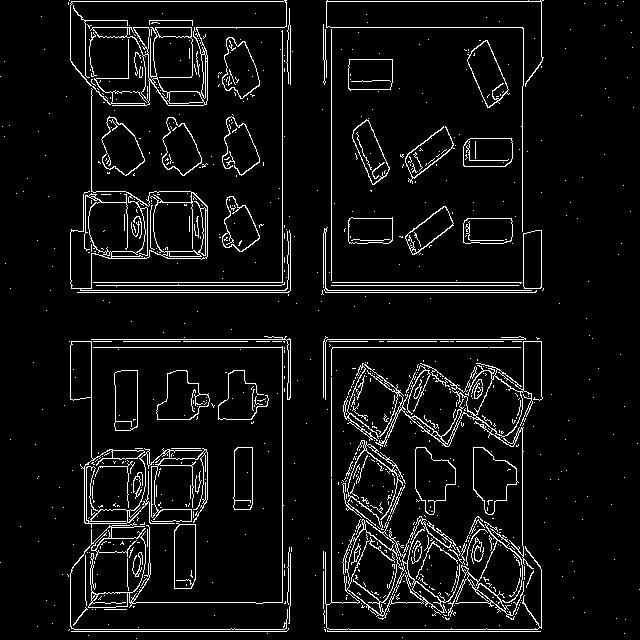Battery: (404, 126, 455, 184), (466, 40, 509, 108), (352, 119, 390, 185), (406, 208, 454, 255), (114, 370, 138, 431), (462, 139, 512, 168), (174, 524, 196, 589), (349, 59, 394, 90), (462, 218, 512, 243), (234, 446, 252, 509), (349, 218, 392, 244)
Pump: (72, 525, 150, 628), (466, 518, 532, 619), (76, 525, 150, 610), (406, 516, 465, 619), (344, 519, 404, 619), (342, 440, 405, 530), (465, 362, 532, 446), (83, 20, 149, 105), (149, 20, 208, 106), (344, 362, 404, 446), (84, 449, 149, 524), (405, 362, 462, 446), (150, 449, 208, 524), (85, 191, 148, 259), (150, 192, 208, 259)
Regulator: (472, 446, 518, 515), (415, 446, 456, 515), (100, 116, 145, 176), (219, 36, 260, 100), (164, 118, 206, 176), (222, 115, 260, 176), (222, 196, 260, 252)
Sensor: (156, 370, 210, 419), (218, 370, 269, 421)
